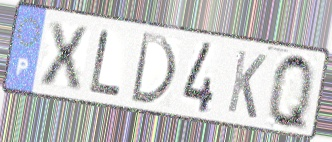4: (181, 40, 216, 116)
D: (127, 30, 178, 109)
K: (225, 47, 269, 122)
L: (87, 28, 124, 99)
Q: (267, 50, 315, 135)
X: (38, 19, 90, 91)
